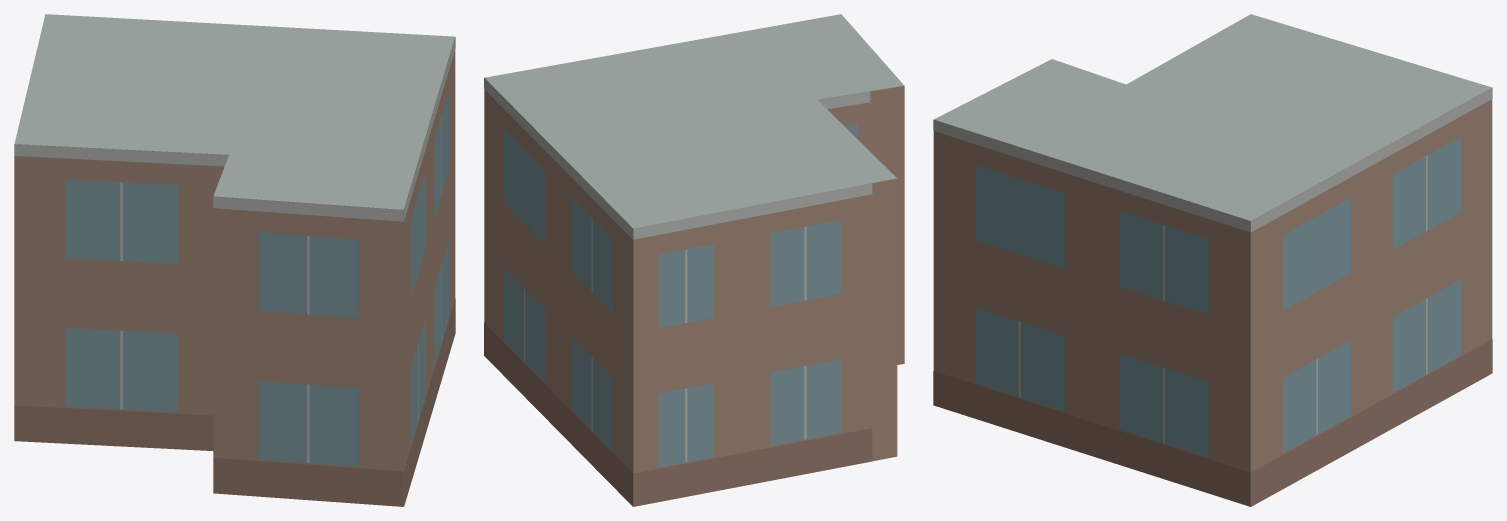
File: survey-upis-32564183.glb
3 renders of one model, left to right at view 1: azimuth 30°, elevation 25°; view 2: azimuth 150°, elevation 25°; view 3: azimuth 270°, elevation 25°, orthographic. The views are drawn at different scales.
Parts seen in each view (by area): view 1: survey-upis-32564183.tmp; view 2: survey-upis-32564183.tmp; view 3: survey-upis-32564183.tmp.
Part boxes in pixels (x1,y1,x2,y2): survey-upis-32564183.tmp: (14,14,455,506); survey-upis-32564183.tmp: (484,14,904,506); survey-upis-32564183.tmp: (933,14,1492,506).
Size of the model in its own units: 9.49 by 6.1 by 10.82.
